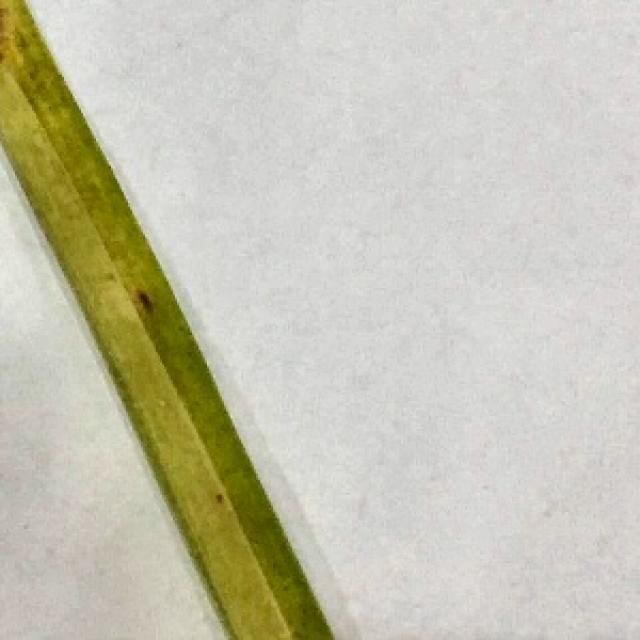Leaf_Blast: (118, 273, 164, 341)
